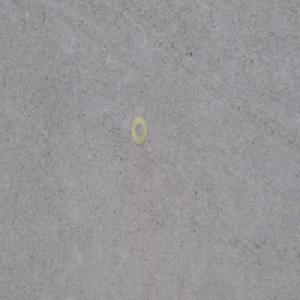Washer: (129, 114, 147, 145)
